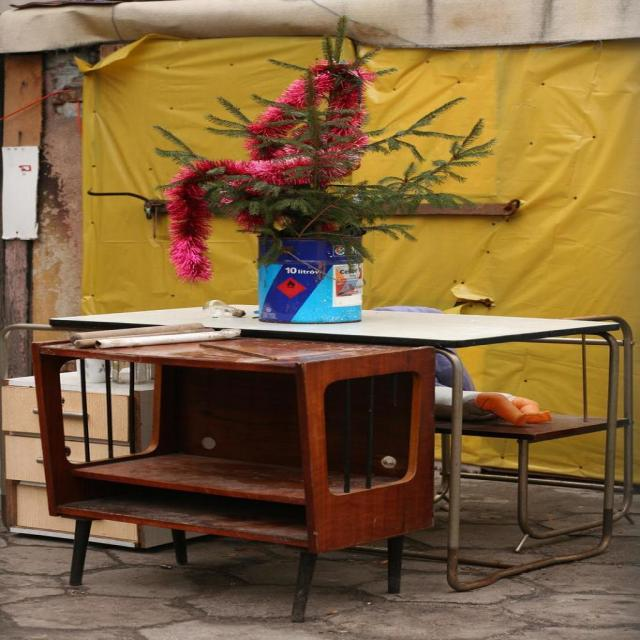table: (0, 286, 639, 640)
